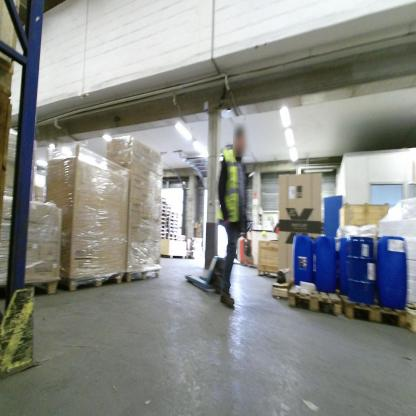pallet: (341, 287, 408, 330), (284, 278, 344, 319), (2, 271, 64, 305), (56, 270, 125, 290), (122, 262, 161, 288), (406, 298, 415, 335), (169, 211, 180, 216), (161, 202, 171, 207), (169, 218, 178, 223), (168, 224, 177, 229), (161, 216, 170, 221), (161, 233, 169, 238), (161, 221, 170, 225), (161, 225, 168, 230), (168, 229, 176, 233), (169, 233, 177, 237), (161, 209, 169, 213), (160, 206, 170, 209), (169, 215, 177, 218), (169, 223, 177, 226), (169, 237, 177, 240), (162, 213, 169, 216), (161, 230, 168, 233), (161, 200, 166, 203)
pallet_truck: (182, 210, 257, 294), (235, 216, 260, 273)
